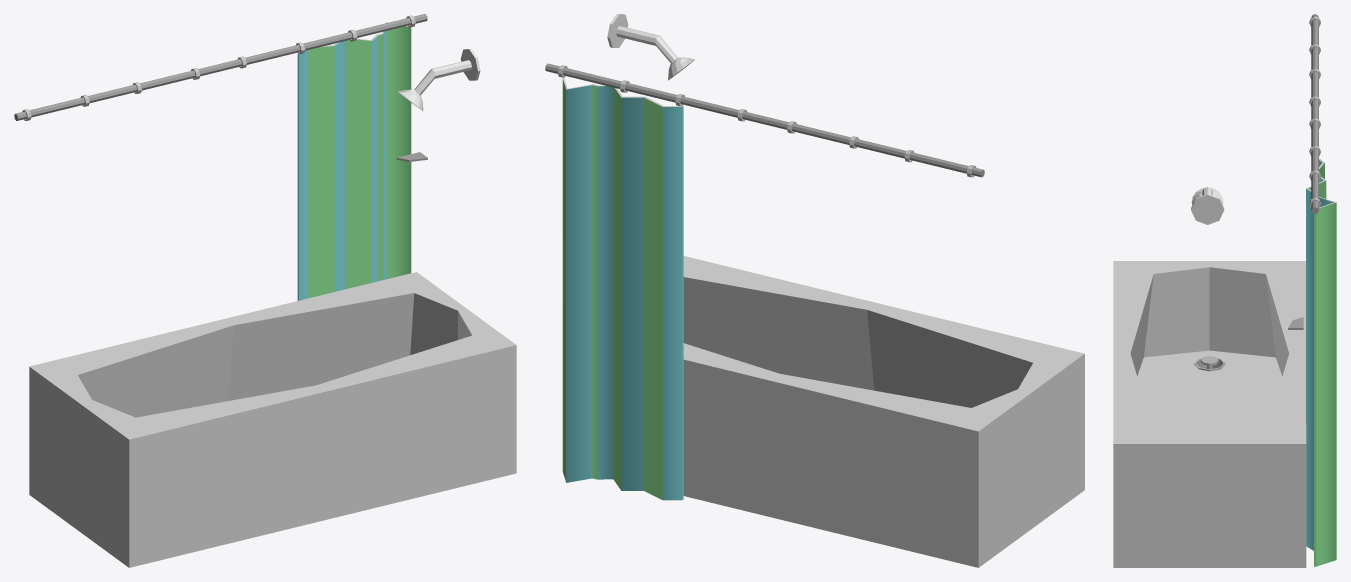
The model's file is Shower.fbx.
3 views of the same model, side by side, from view 1: azimuth 30°, elevation 25°; view 2: azimuth 150°, elevation 25°; view 3: azimuth 270°, elevation 25° (orthographic). The views are drawn at different scales.
Visible parts, largest first — view 1: Shower; view 2: Shower; view 3: Shower.
Part boxes in pixels (x1,y1,x2,y2): Shower: [14, 14, 516, 567]; Shower: [545, 14, 1084, 567]; Shower: [1113, 14, 1336, 567].
Bounding box in the file's own units: 363 × 328 × 177.
